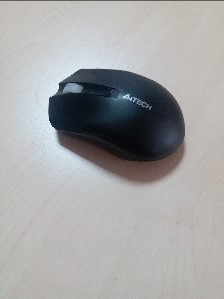mouse: (45, 64, 185, 165)
